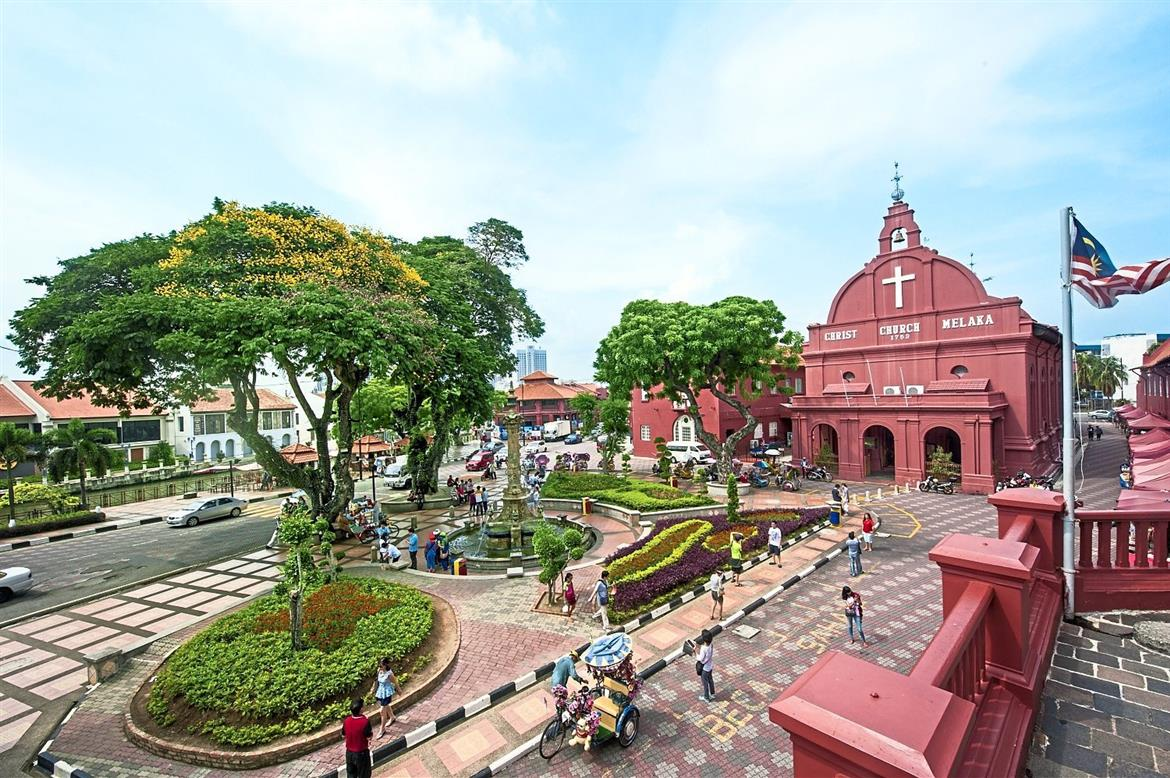Church: (797, 168, 1032, 489)
